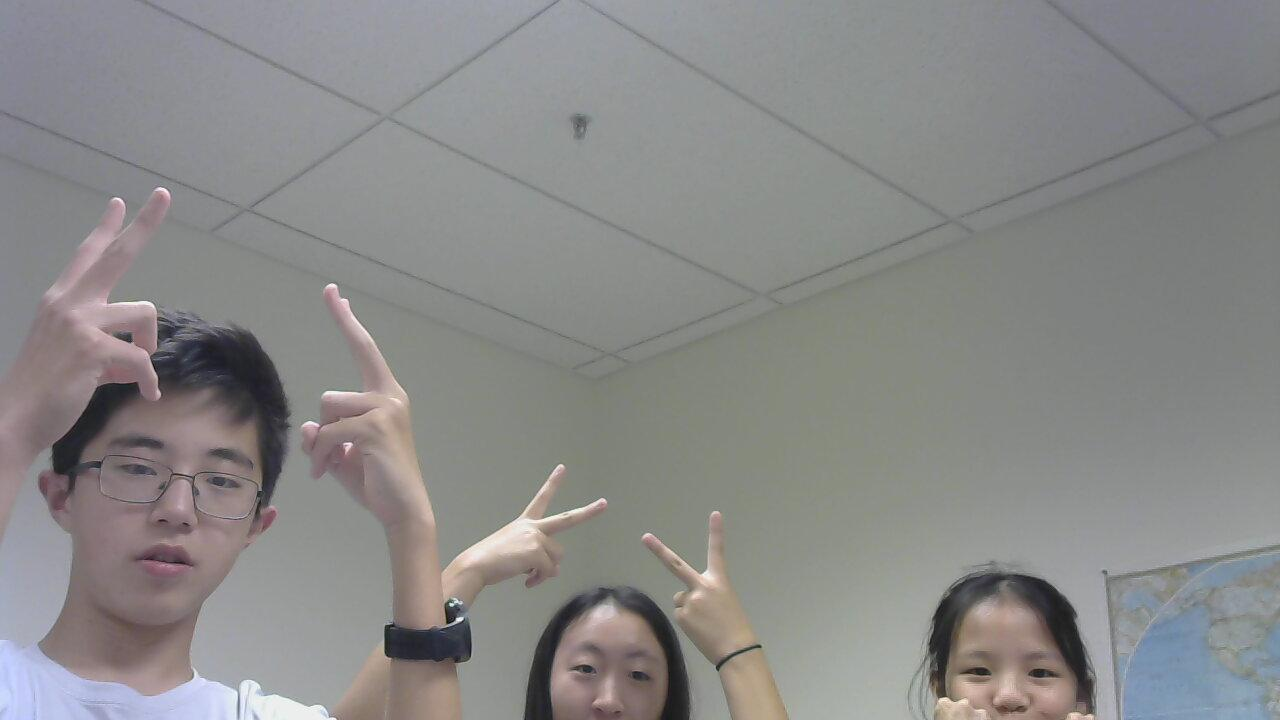peace: (291, 262, 449, 541), (16, 177, 177, 448), (441, 459, 619, 608), (633, 507, 764, 659)
